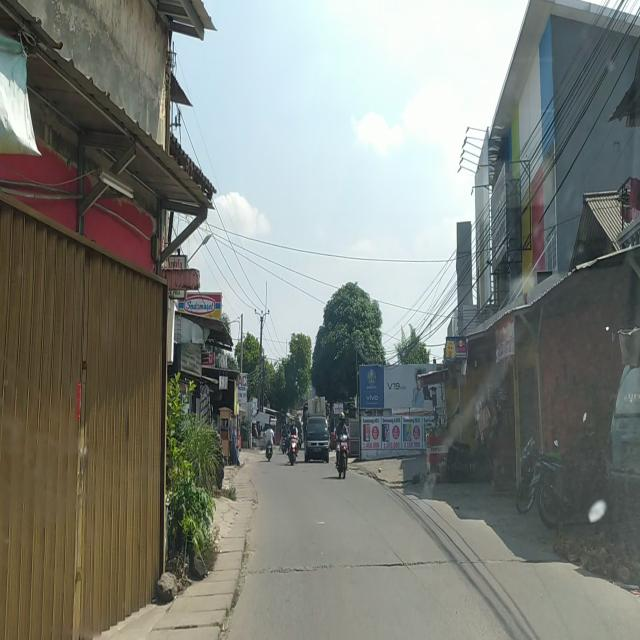Sewer Cover: (268, 555, 458, 576)
